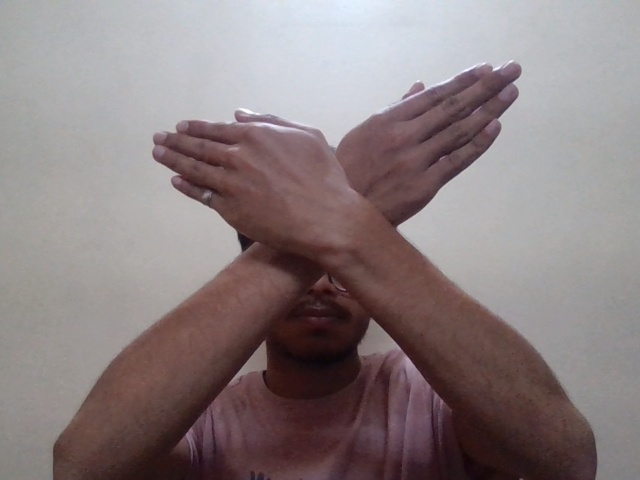feel: (139, 47, 548, 284)
